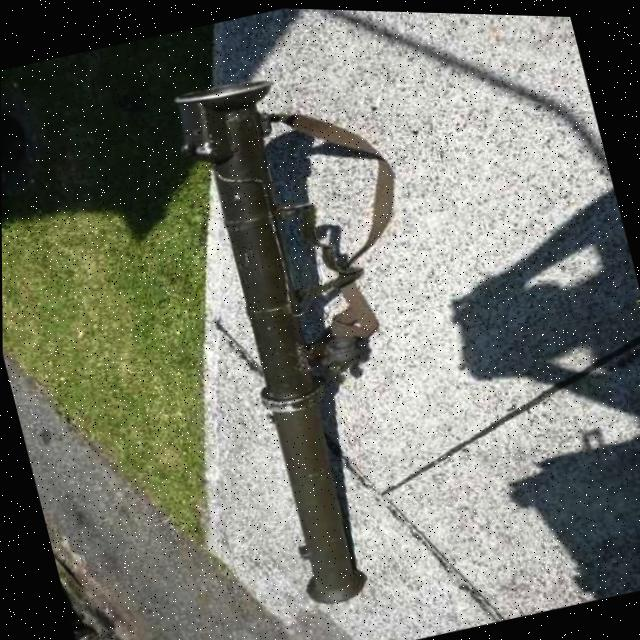rocket: (132, 4, 498, 629)
